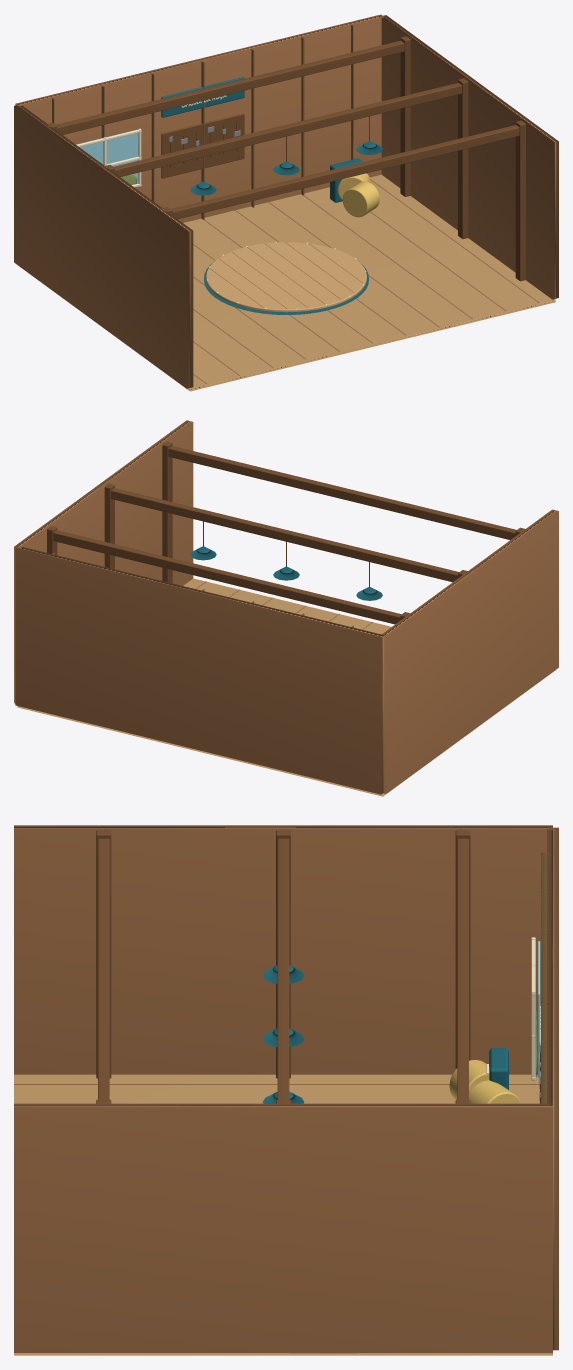
Rendered from garage.glb.
3 renders of one model, top to bottom at view 1: azimuth 30°, elevation 25°; view 2: azimuth 150°, elevation 25°; view 3: azimuth 270°, elevation 25°, orthographic. The views are drawn at different scales.
Parts seen in each view (by area): view 1: Garage; view 2: Garage; view 3: Garage, CraftDetails.
Boxes of the visible parts, x1,y1,x2,y2 form: Garage: [14, 14, 558, 391]; Garage: [14, 420, 558, 796]; Garage: [14, 825, 558, 1355]; CraftDetails: [486, 1048, 508, 1089].
Bounding box in the file's own units: 22.4 × 9.2 × 18.2.
